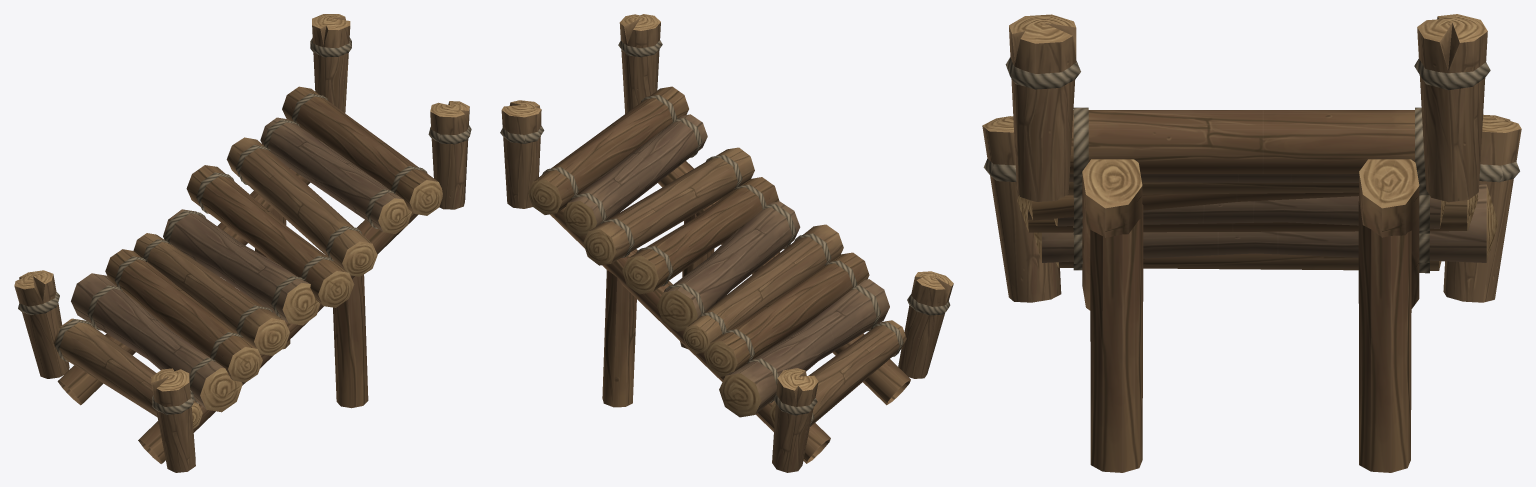
Rendered from Stairs_2.fbx.
3 renders of one model, left to right at view 1: azimuth 30°, elevation 25°; view 2: azimuth 150°, elevation 25°; view 3: azimuth 270°, elevation 25°, orthographic. The views are drawn at different scales.
Parts seen in each view (by area): view 1: polySurface1592; view 2: polySurface1592; view 3: polySurface1592.
Part boxes in pixels (<box>): polySurface1592: <box>14,14,471,472</box>; polySurface1592: <box>500,14,953,472</box>; polySurface1592: <box>982,14,1521,472</box>.
Bounding box in the file's own units: 190 × 171 × 159.
Materials: 1 (1 with a texture image).
